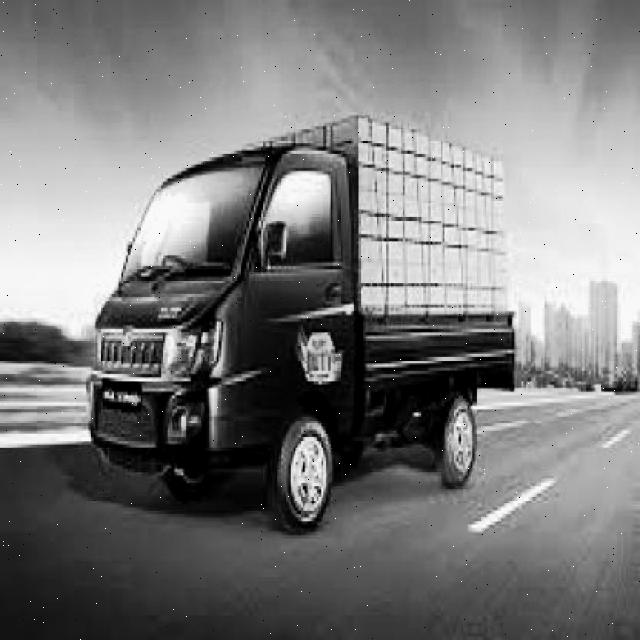LCV: (79, 137, 493, 532)
